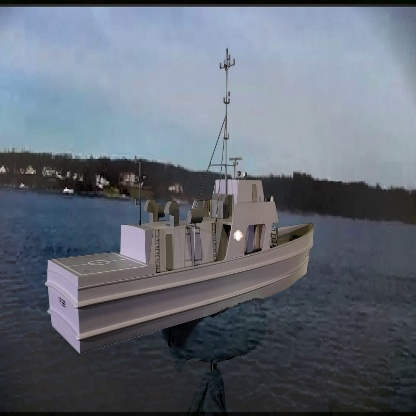YP689: (47, 44, 316, 360)
